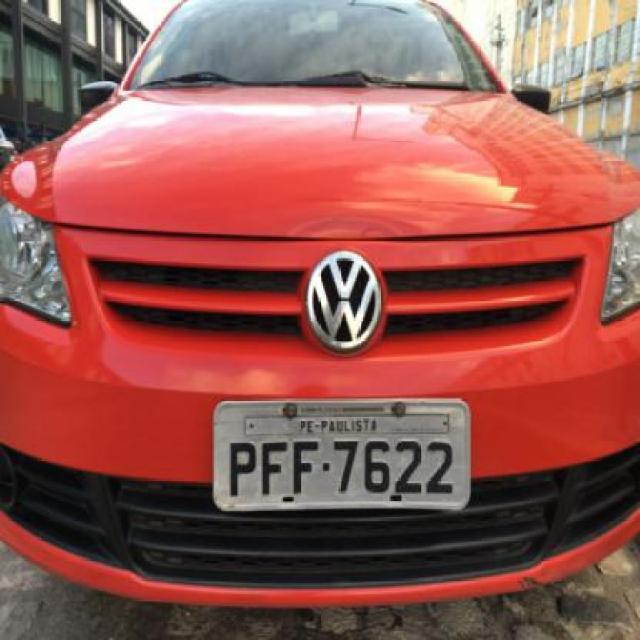old_plate: (206, 394, 477, 516)
